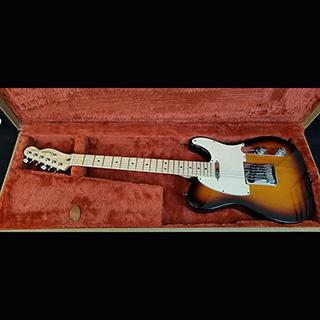Fender Telecaster: (22, 134, 314, 225)
SS: (212, 159, 262, 187)
